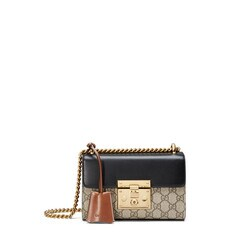Gucci: (67, 134, 201, 227), (154, 189, 184, 216)
